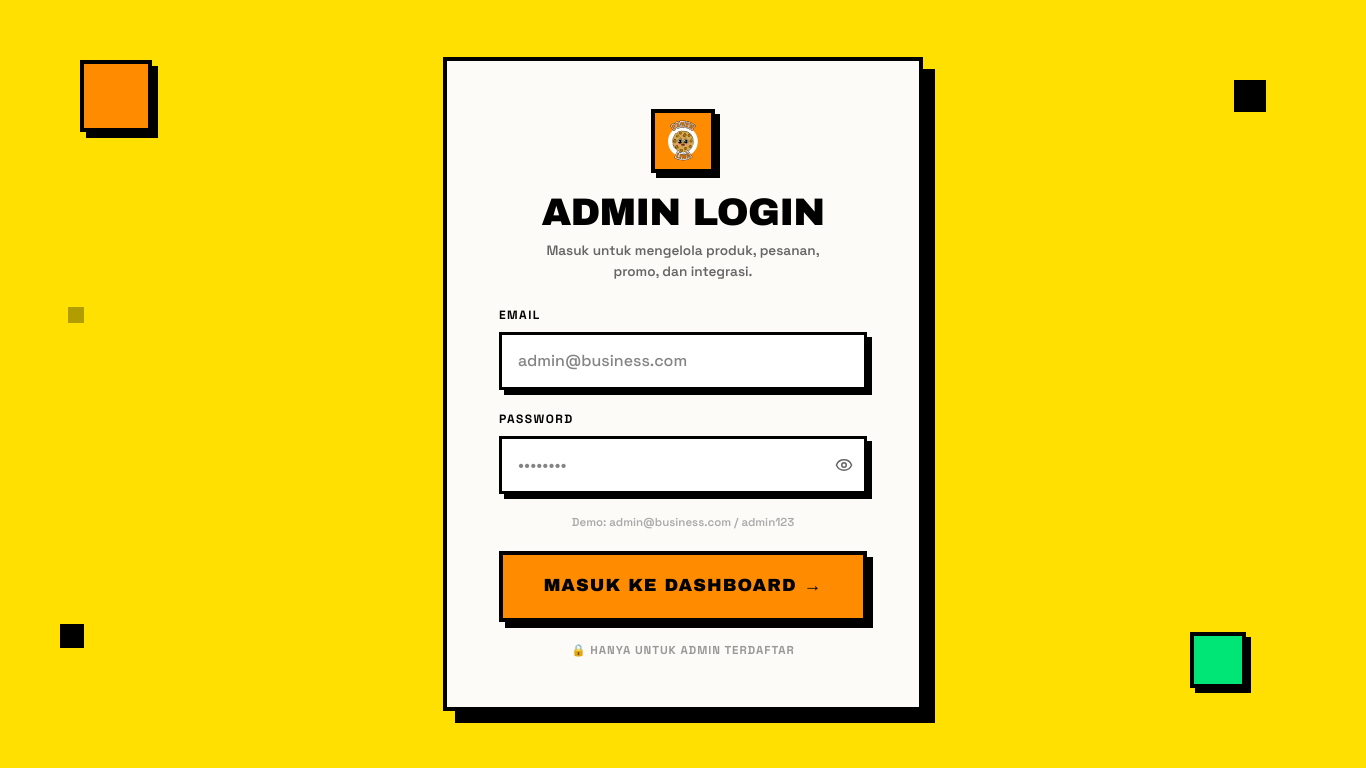
AdminLogin Component › should display error message on login failure
Type "admin@test.com" into the field with placeholder "admin@business.com" at (683, 361), box [499,332,867,390]
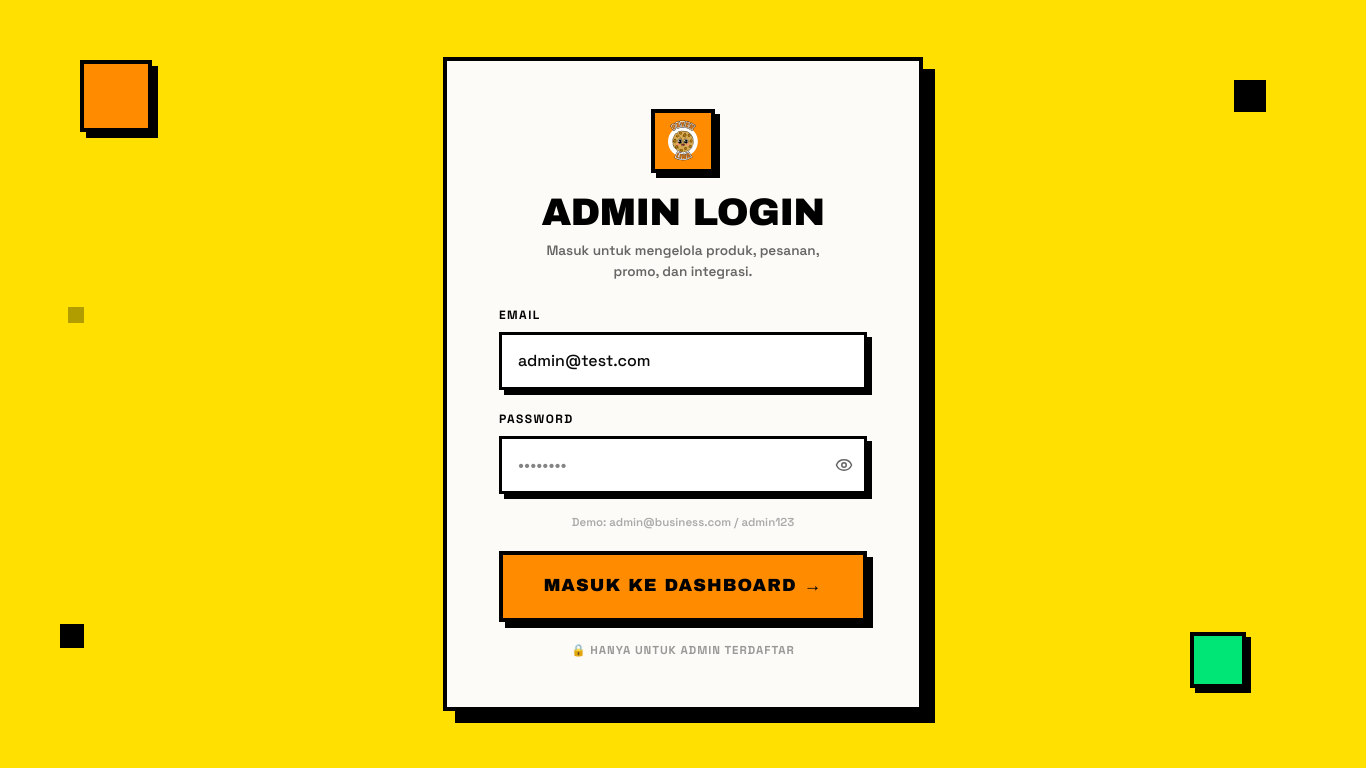
Type "wrong" into the password field with placeholder "••••••••" at (683, 465), box [499,436,867,494]
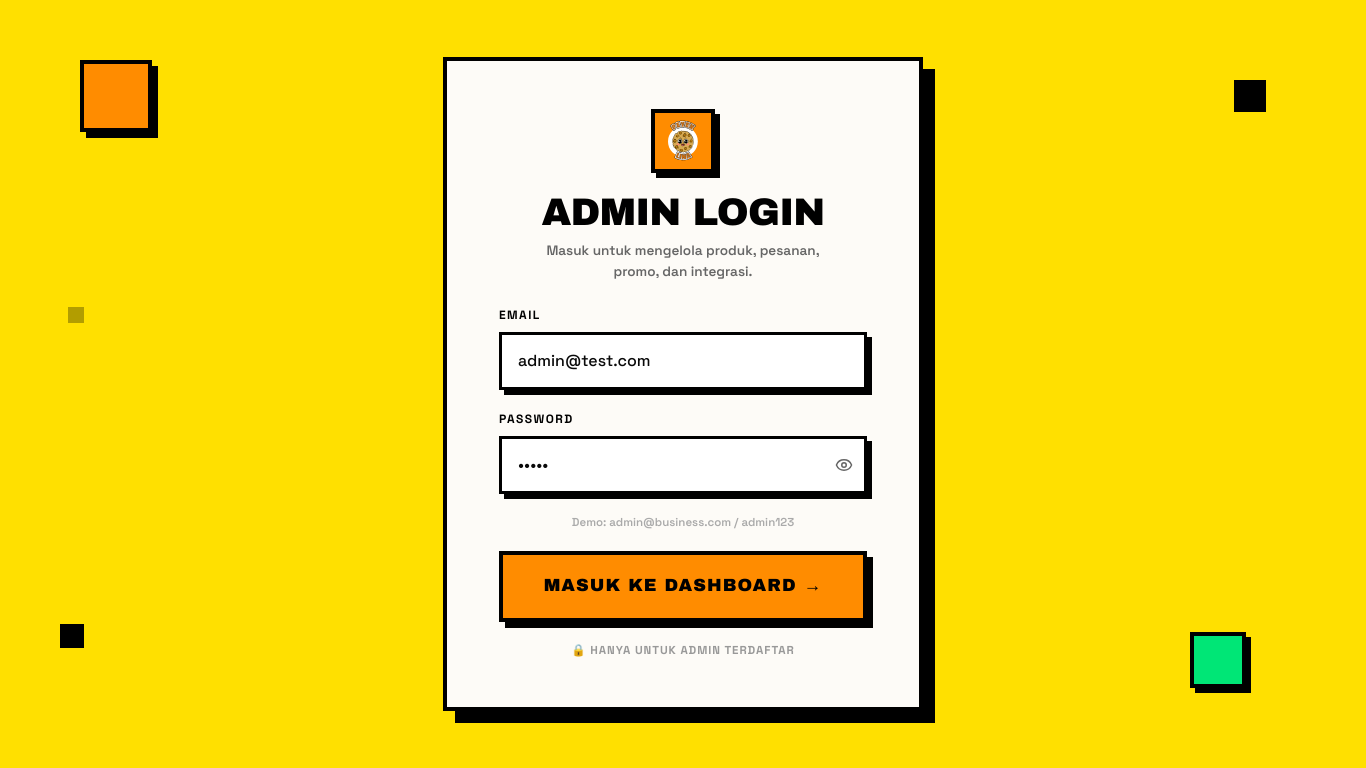
Click the button "MASUK KE DASHBOARD →" at (683, 587), box [499,551,867,622]
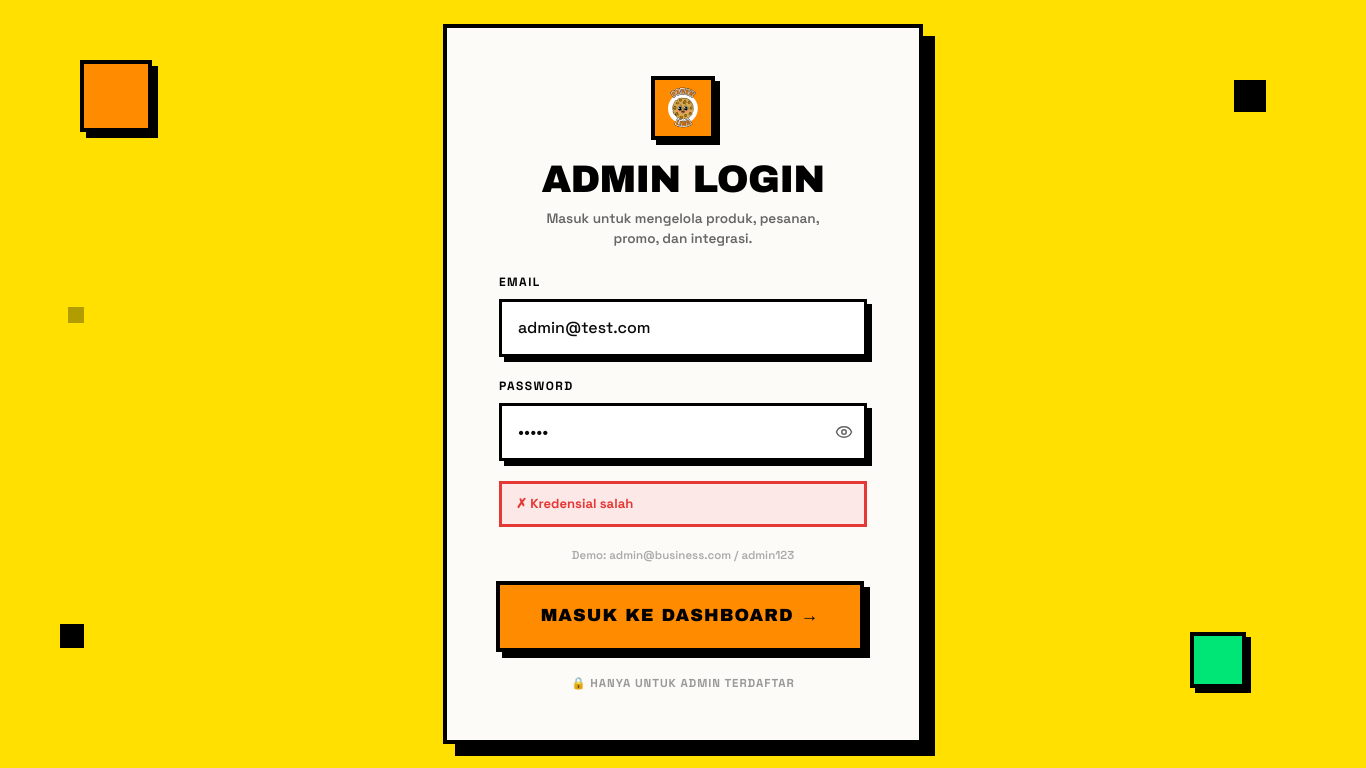
Expected: the text "✗ Kredensial salah" is shown, [499,481,867,527]
